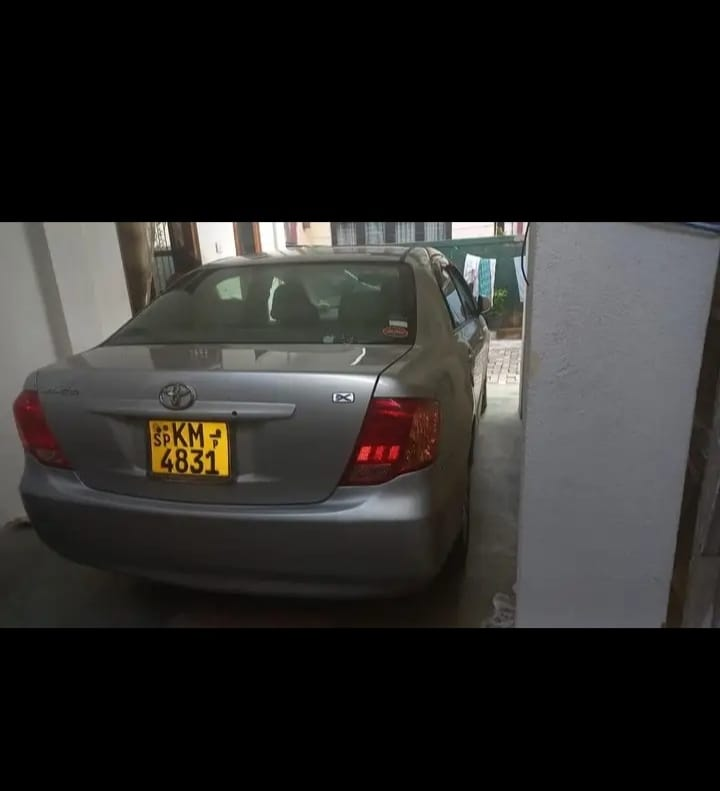number_plate: (147, 424, 231, 481)
